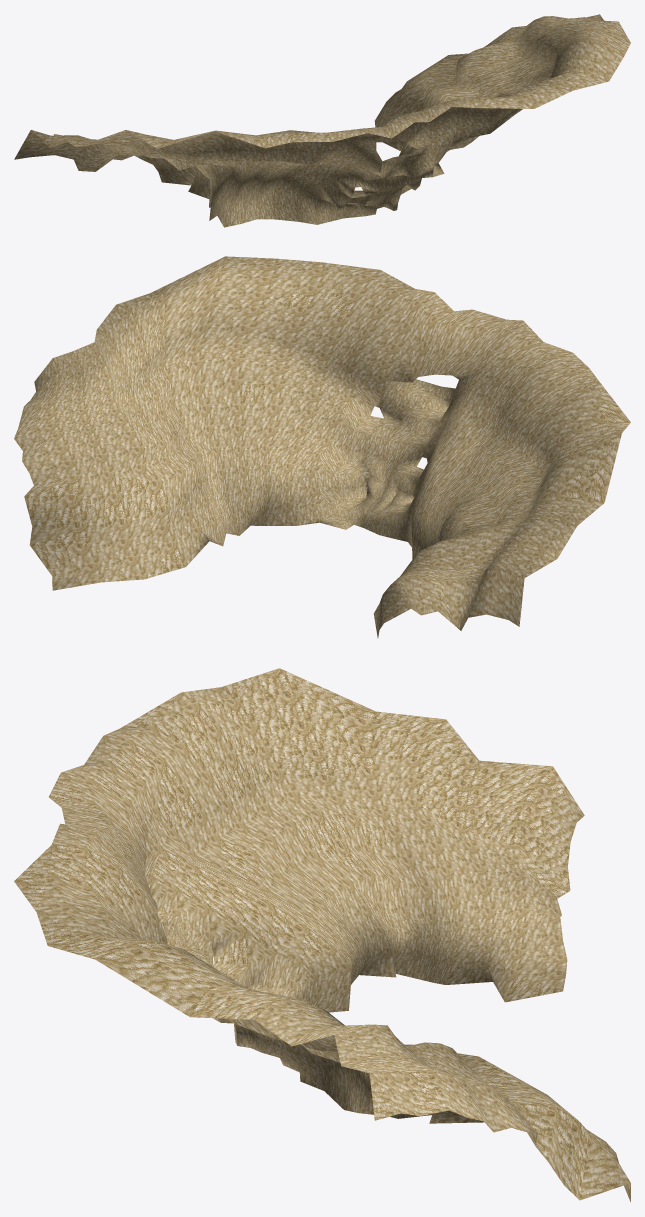
Rendered from CLIFFFRONT_FRONT.fbx.
The picture shows the model from 3 angles, top to bottom: view 1: azimuth 30°, elevation 25°; view 2: azimuth 150°, elevation 25°; view 3: azimuth 270°, elevation 25°; orthographic projection. The views are drawn at different scales.
Parts seen in each view (by area): view 1: CLIFFFRONT_FRONT; view 2: CLIFFFRONT_FRONT; view 3: CLIFFFRONT_FRONT.
Boxes of the visible parts, x1=… form: CLIFFFRONT_FRONT: x1=14, y1=14, x2=630, y2=227; CLIFFFRONT_FRONT: x1=14, y1=256, x2=630, y2=638; CLIFFFRONT_FRONT: x1=14, y1=668, x2=630, y2=1202.
Size of the model in its own units: 1384967 by 446578 by 940872.
Materials: 8 (8 with a texture image).
